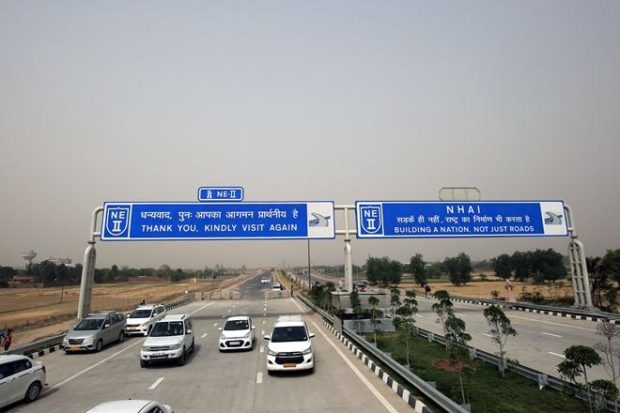Car: (262, 315, 325, 377), (59, 310, 127, 356), (141, 316, 198, 365), (215, 314, 258, 353)
